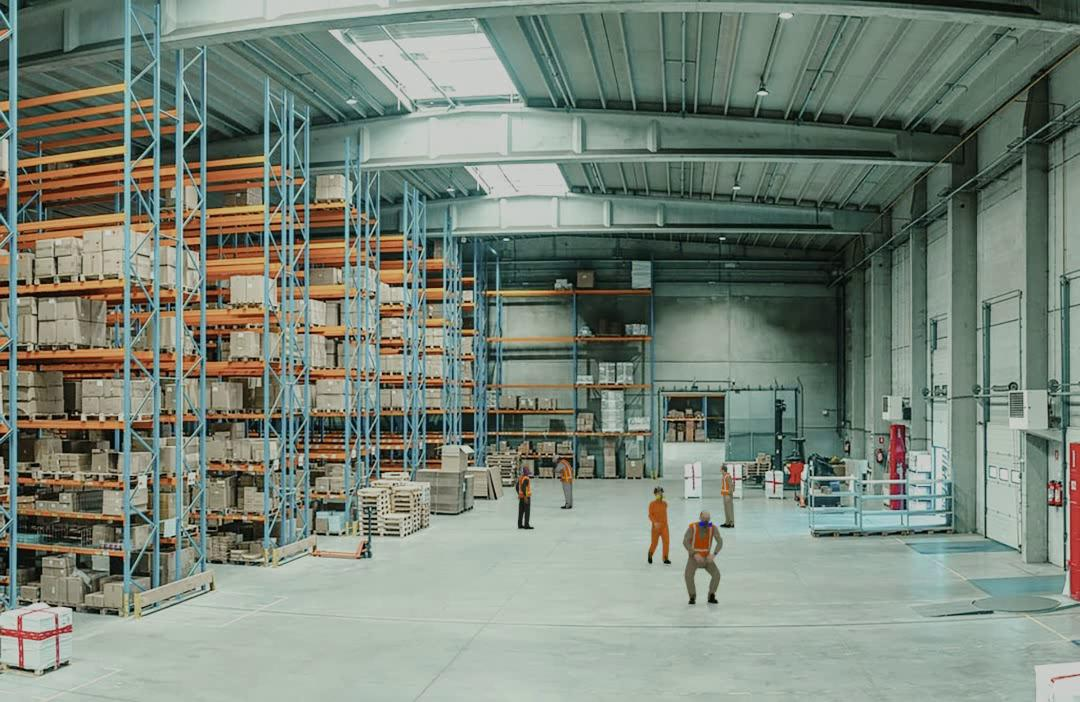Helmet: (653, 486, 664, 493)
Jacket: (690, 522, 714, 555), (558, 460, 574, 481), (518, 475, 532, 498), (721, 474, 733, 496)
Shoes: (720, 522, 735, 529), (708, 596, 719, 604), (560, 504, 573, 509), (663, 559, 672, 565), (689, 598, 696, 605), (647, 558, 654, 564), (525, 525, 534, 529), (517, 525, 524, 529)
